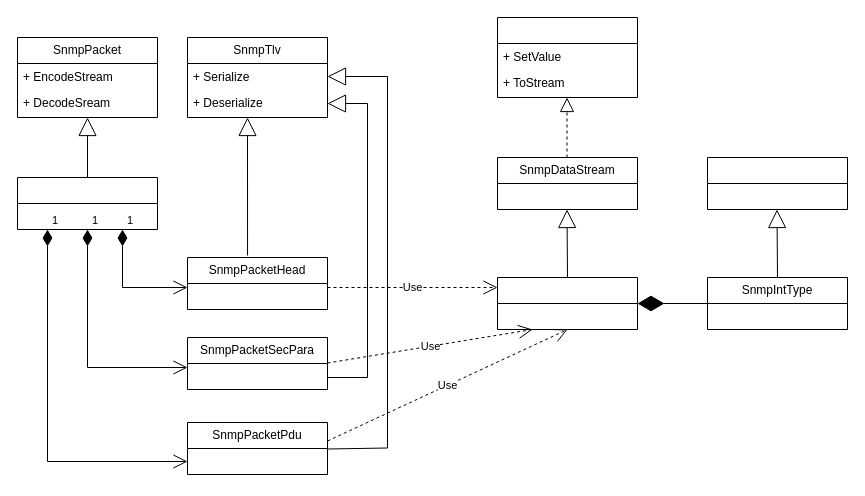
This 865x496 diagram has some shape labels left out. The box of each missing label's shape, as (x1, y1, x2, y2) in pixels:
SnmpDataType: (706, 156, 848, 210)
SnmpIntStream: (496, 276, 638, 330)
SnmpStream: (496, 16, 638, 98)
SnmpV3Packet: (16, 176, 158, 230)
